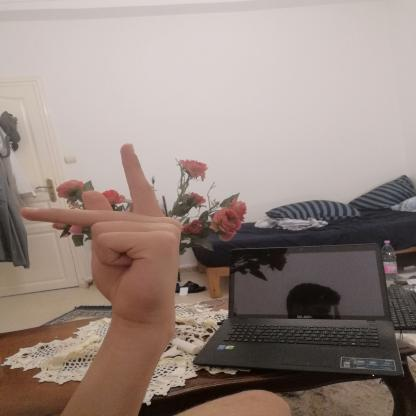DHAA: (10, 130, 192, 330)
